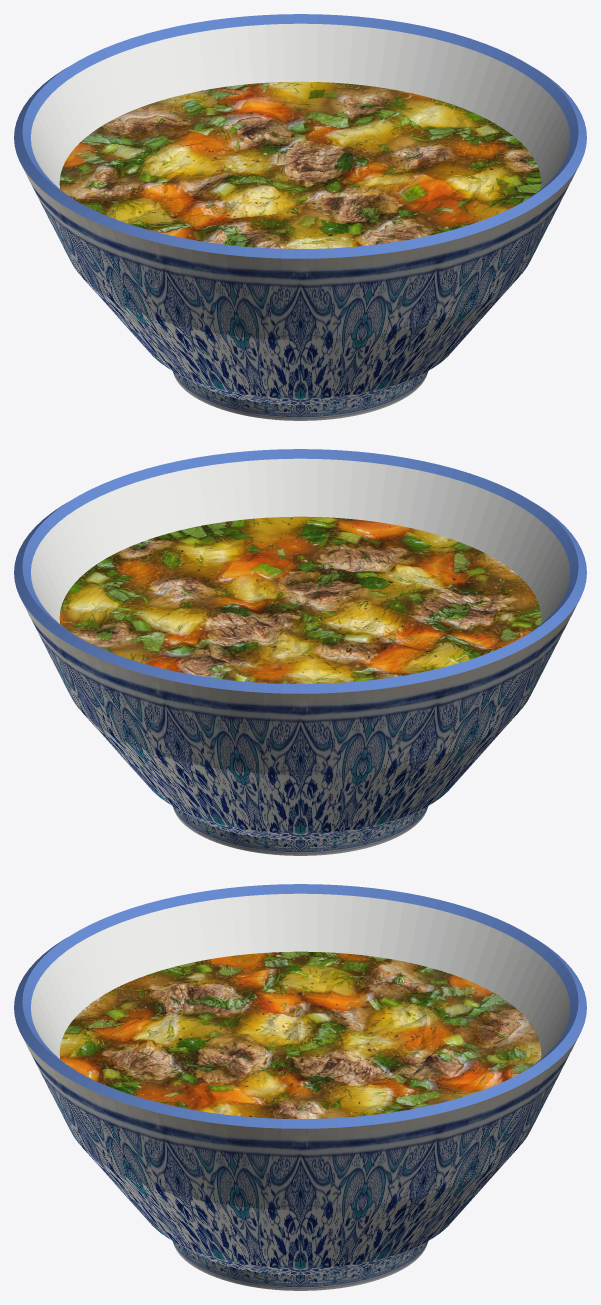
The model's file is shorva.glb.
3 renders of one model, top to bottom at view 1: azimuth 30°, elevation 25°; view 2: azimuth 150°, elevation 25°; view 3: azimuth 270°, elevation 25°, orthographic.
Parts seen in each view (by area): view 1: shorva_4, shorva_0, shorva_2, shorva_1; view 2: shorva_4, shorva_0, shorva_2, shorva_1; view 3: shorva_4, shorva_0, shorva_2, shorva_1.
Part boxes in pixels (x1,y1,x2,y2): shorva_4: [59, 81, 541, 248]; shorva_0: [20, 163, 580, 420]; shorva_2: [31, 23, 569, 188]; shorva_1: [14, 14, 586, 258]; shorva_4: [59, 516, 541, 683]; shorva_0: [20, 598, 580, 855]; shorva_2: [31, 458, 569, 623]; shorva_1: [14, 449, 586, 693]; shorva_4: [59, 951, 541, 1118]; shorva_0: [20, 1033, 580, 1290]; shorva_2: [31, 893, 569, 1058]; shorva_1: [14, 884, 586, 1128].
Size of the model in its own units: 0.17 by 0.077 by 0.17.
5 materials, 2 textured.
